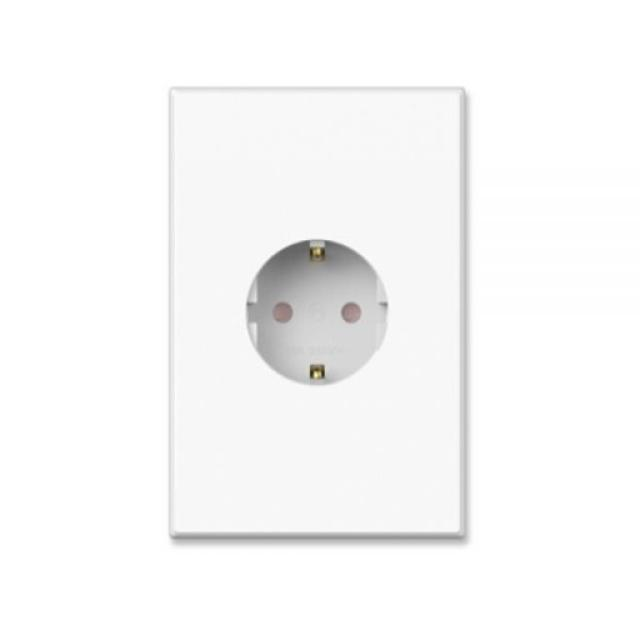typeb: (124, 34, 516, 594)
